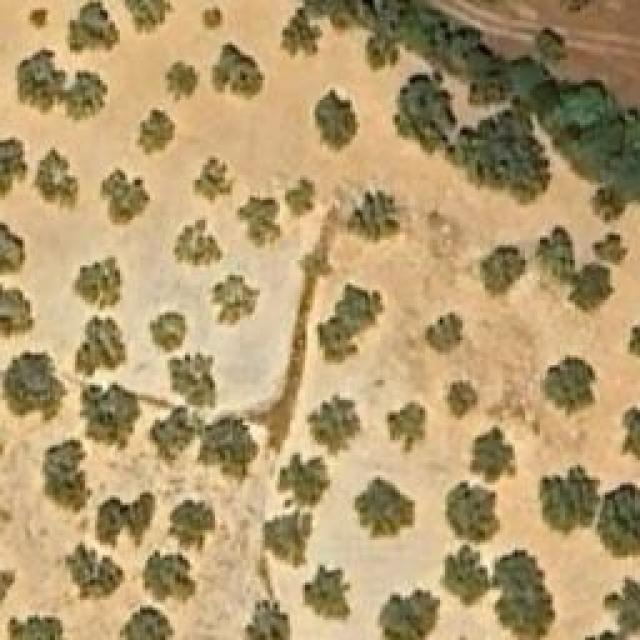Tree: (458, 120, 548, 195), (493, 550, 556, 640), (317, 285, 385, 365), (0, 350, 68, 423), (538, 465, 601, 538), (353, 475, 416, 540), (200, 415, 258, 478), (43, 440, 93, 513), (65, 540, 124, 601), (543, 353, 598, 418), (595, 482, 640, 560), (75, 313, 128, 378), (393, 77, 443, 145), (445, 482, 503, 540), (32, 145, 80, 215), (210, 42, 265, 100), (305, 395, 363, 450), (17, 48, 65, 113), (303, 565, 356, 623), (65, 0, 120, 55), (383, 590, 443, 640), (85, 378, 130, 443), (98, 493, 153, 546), (100, 167, 150, 225), (470, 425, 518, 485), (442, 545, 490, 605), (143, 550, 196, 603), (348, 190, 403, 240), (73, 258, 123, 311), (213, 275, 263, 328), (280, 455, 333, 505), (173, 218, 223, 268), (478, 248, 528, 298), (408, 313, 463, 358), (265, 513, 310, 568), (602, 577, 639, 640), (238, 198, 281, 251), (533, 228, 576, 281), (170, 500, 215, 550), (315, 93, 355, 148), (172, 355, 220, 400), (0, 285, 35, 343), (135, 108, 175, 158), (65, 68, 105, 118), (568, 265, 611, 310), (275, 13, 318, 58), (242, 600, 290, 640), (387, 400, 425, 450), (195, 155, 235, 200), (0, 138, 28, 201), (148, 313, 188, 356), (125, 607, 172, 640), (10, 615, 68, 640), (532, 22, 570, 60), (155, 413, 190, 453), (125, 0, 170, 30), (165, 62, 200, 100), (590, 228, 628, 263), (0, 223, 25, 276), (285, 178, 318, 218), (590, 180, 623, 220), (445, 382, 478, 420), (620, 402, 640, 460), (365, 38, 395, 63), (0, 570, 15, 608), (28, 8, 51, 31), (203, 8, 223, 31)
